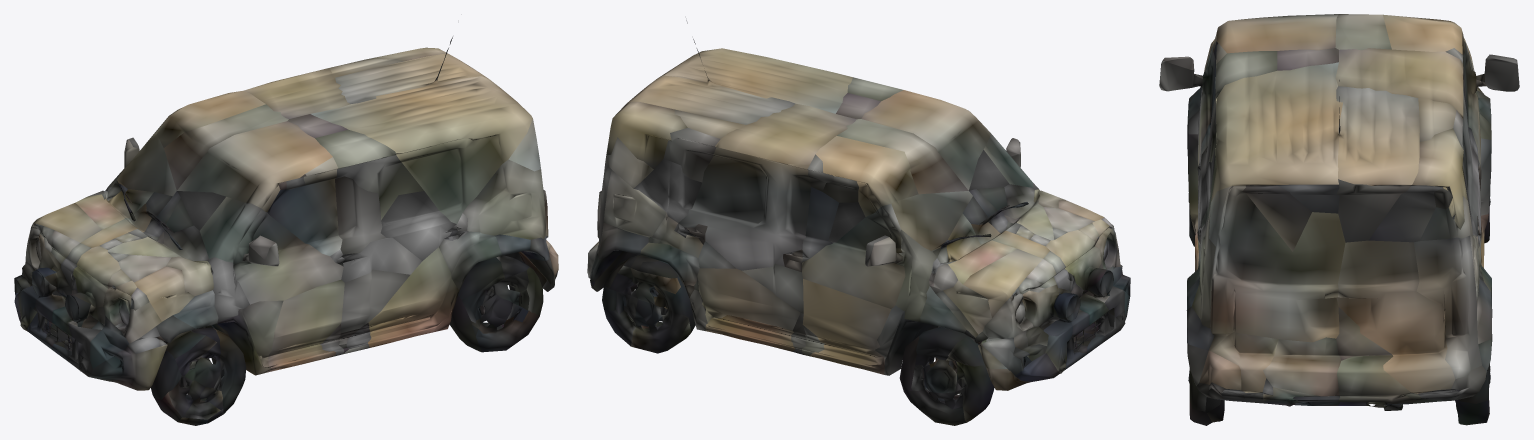
File: car_vf3_light_q1.glb
3 views of the same model, side by side, from view 1: azimuth 30°, elevation 25°; view 2: azimuth 150°, elevation 25°; view 3: azimuth 270°, elevation 25° (orthographic). The views are drawn at different scales.
Size of the model in its own units: 0.0286 by 0.017 by 0.0155.
1 material, 1 textured.
